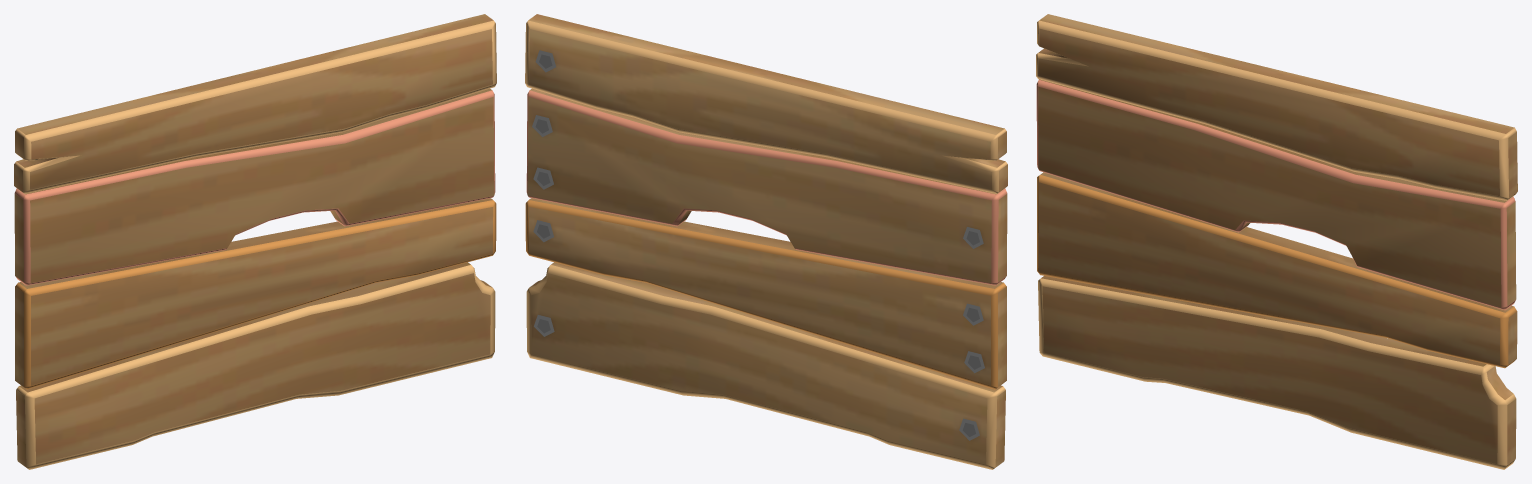
Rendered from WoodPlanks.fbx.
The picture shows the model from 3 angles, left to right: view 1: azimuth 30°, elevation 25°; view 2: azimuth 150°, elevation 25°; view 3: azimuth 330°, elevation 25°; orthographic projection.
Visible parts, largest first — view 1: WoodPlanks; view 2: WoodPlanks; view 3: WoodPlanks.
Part boxes in pixels (bbox=[...]): WoodPlanks: bbox=[14, 14, 496, 469]; WoodPlanks: bbox=[525, 14, 1007, 469]; WoodPlanks: bbox=[1036, 14, 1517, 469].
Size of the model in its own units: 223 by 152 by 12.23.
